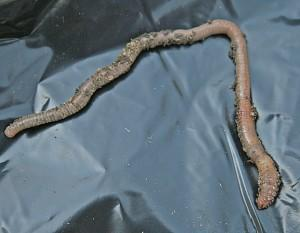earthworms: (14, 15, 280, 211)
